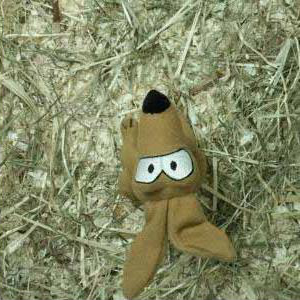dog: (116, 90, 239, 300)
